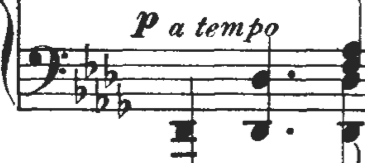bass_clef: (20, 39, 73, 99)
flat: (66, 64, 91, 108), (100, 48, 124, 91), (113, 81, 135, 125), (92, 77, 113, 119), (82, 39, 101, 83)
